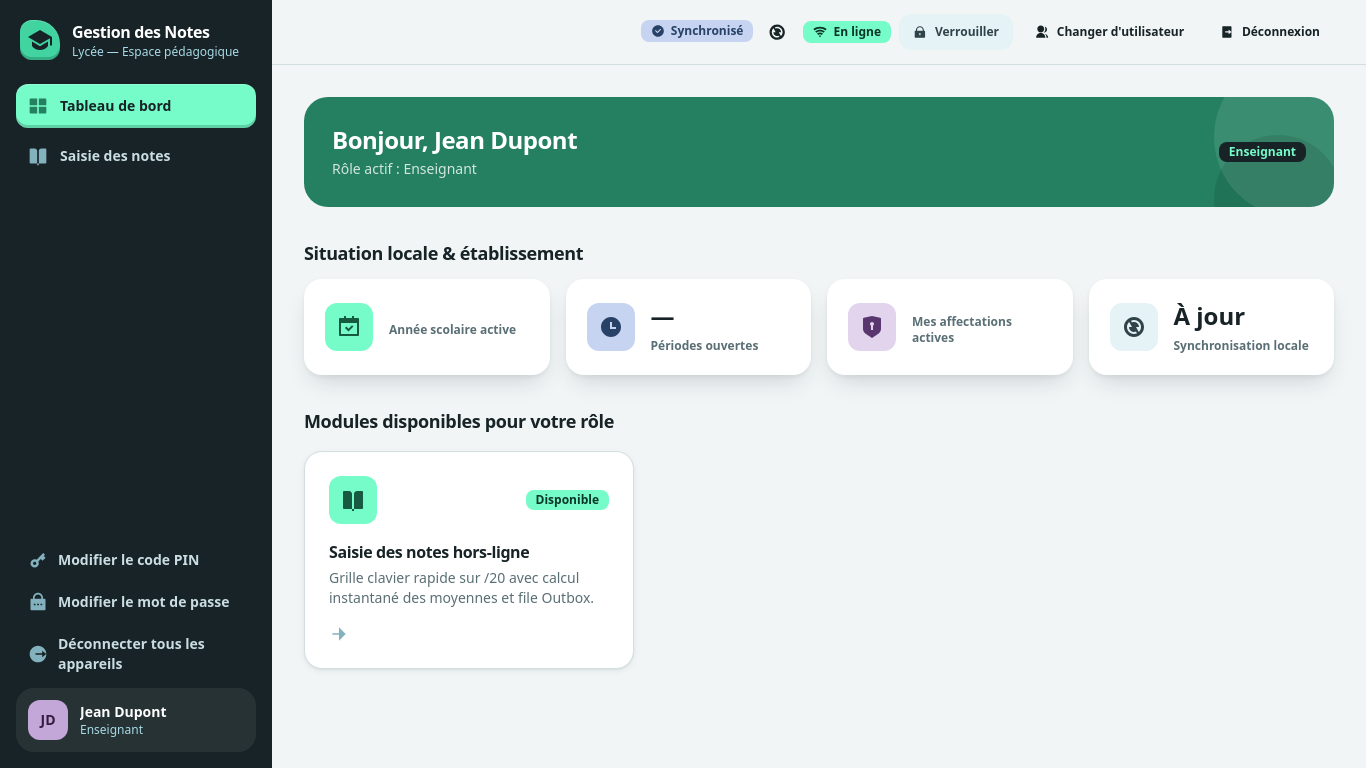
Test: Auth UI & role-based route guards › confirms logout-all-devices and calls POST /api/auth/logout-all
Click the button "Déconnecter tous les appareils" at {"x": 136, "y": 654}, box [16,626,256,682]
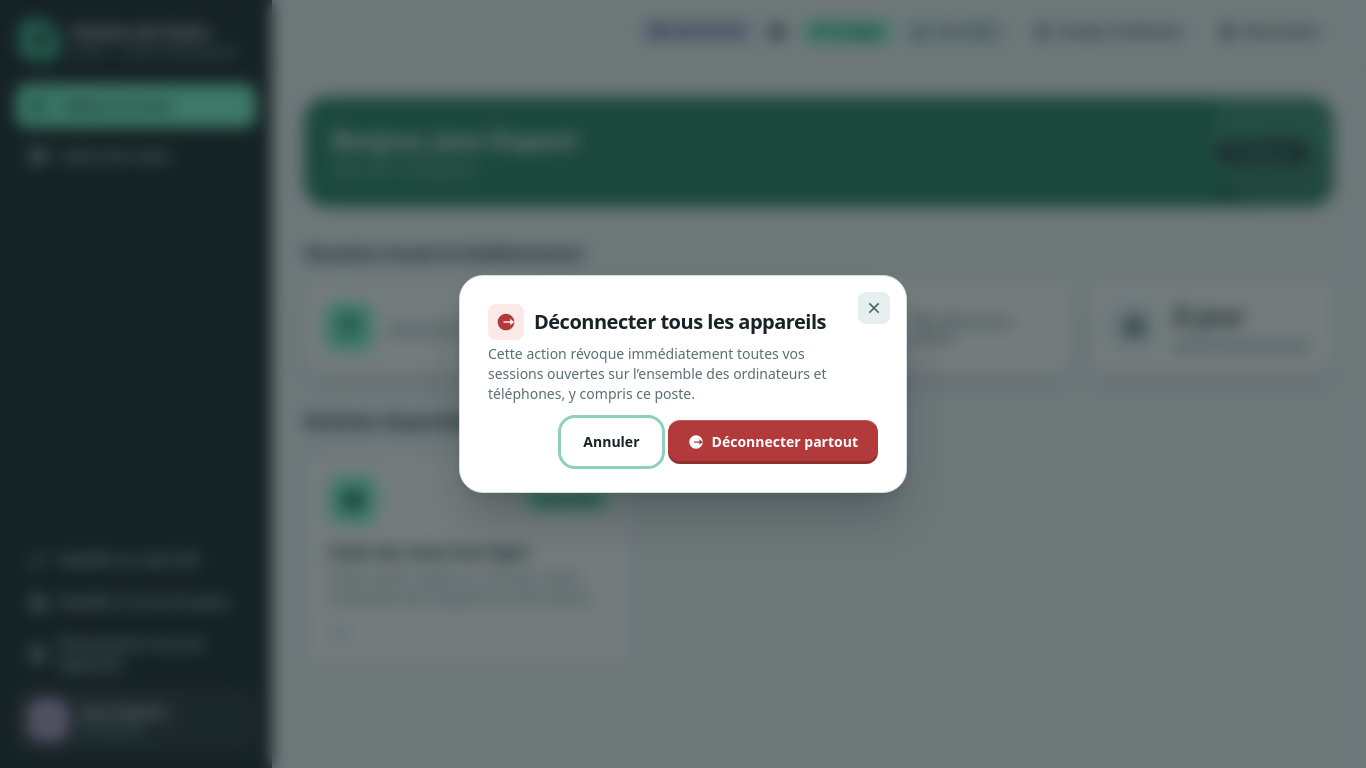
Check: the text "Cette action révoque immédiatement toutes vos sessions ouvertes sur l’ensemble des ordinateurs et téléphones, y compris " is shown, box [488,344,826,403]
Click the button "Déconnecter partout" at {"x": 773, "y": 442}, box [668,420,878,464]
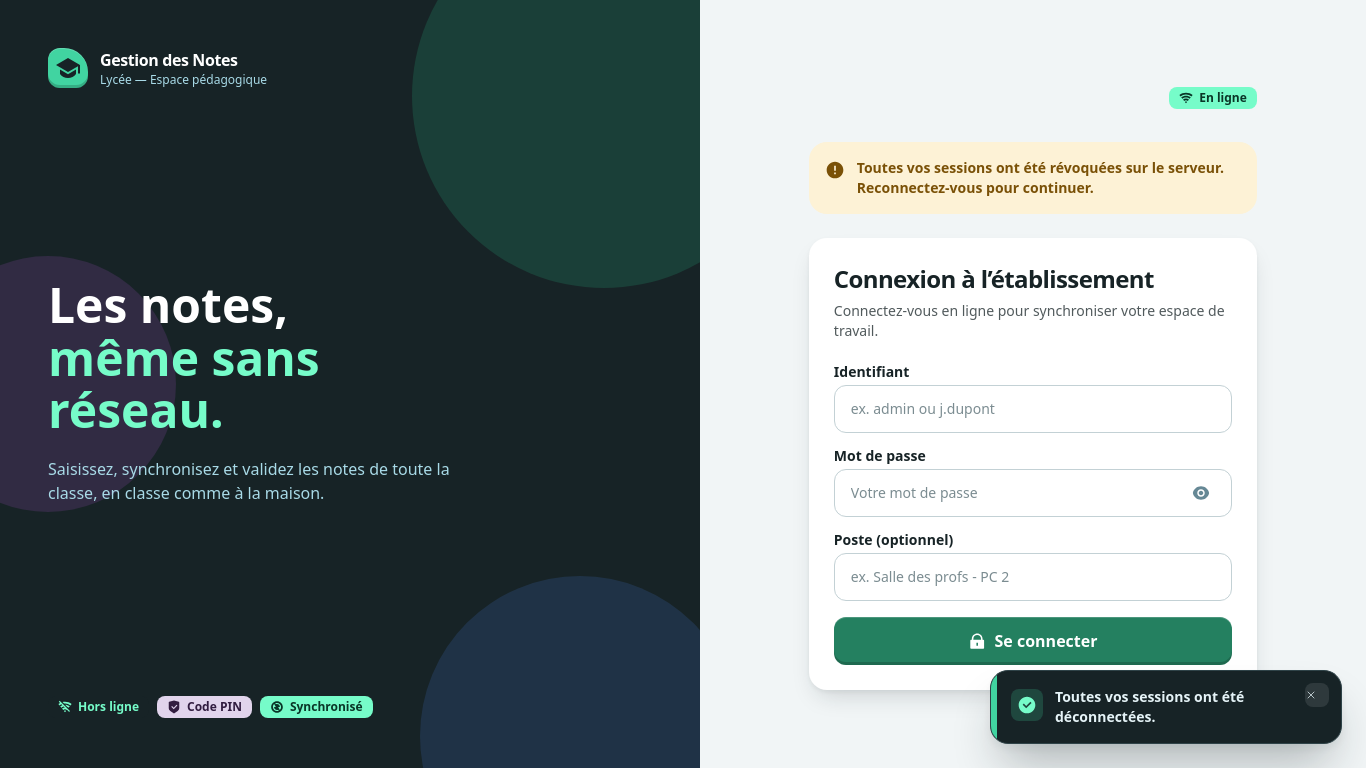
Check: the text "Toutes vos sessions ont été révoquées sur le serveur. Reconnectez-vous pour continuer." is shown, box [857,158,1224,197]
